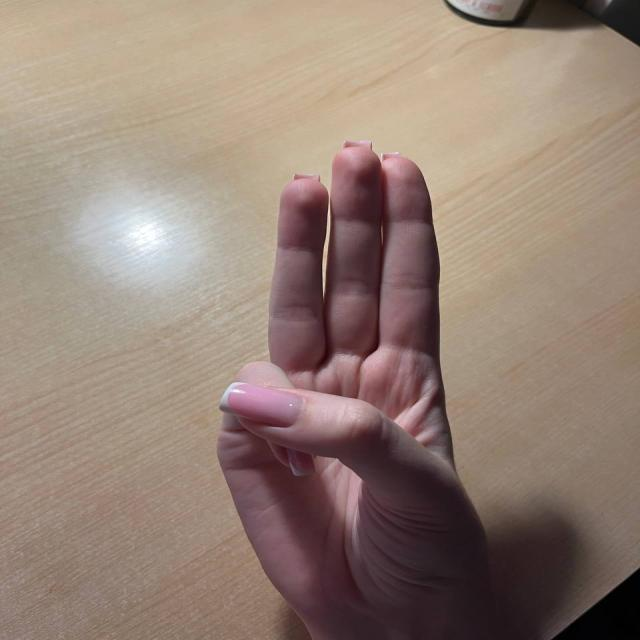sh: (236, 140, 482, 572)
